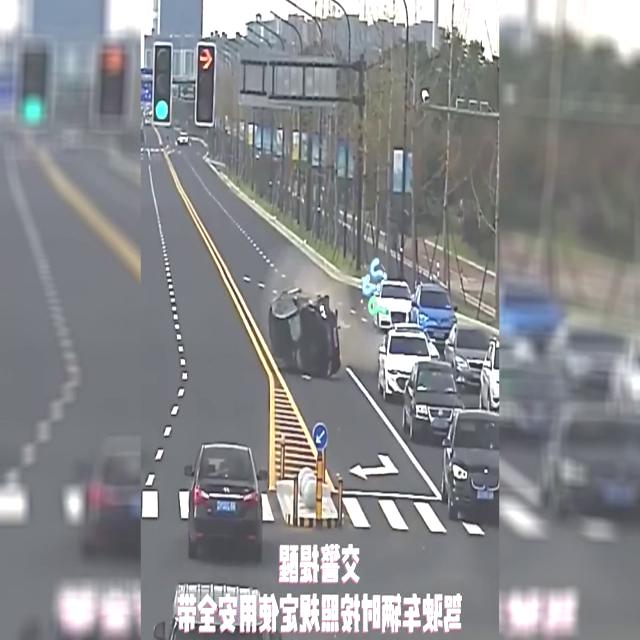accident: (250, 285, 364, 385)
non-accident: (370, 284, 500, 522)
